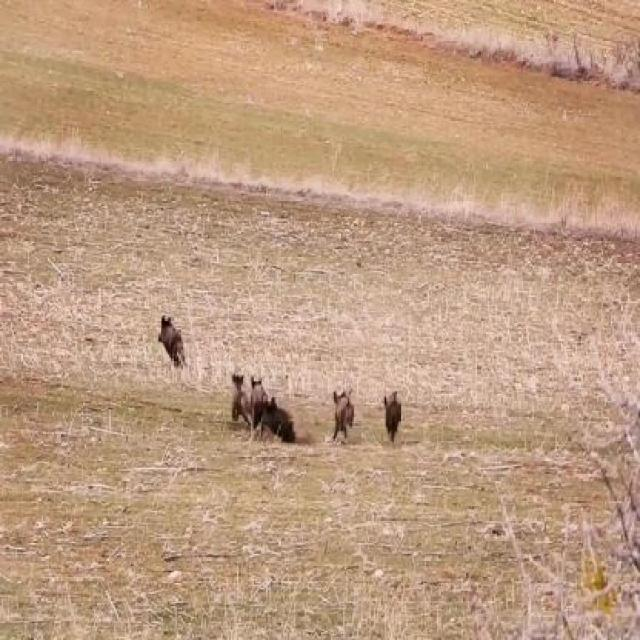pig: (155, 297, 188, 398), (322, 382, 368, 452), (225, 368, 256, 438)
